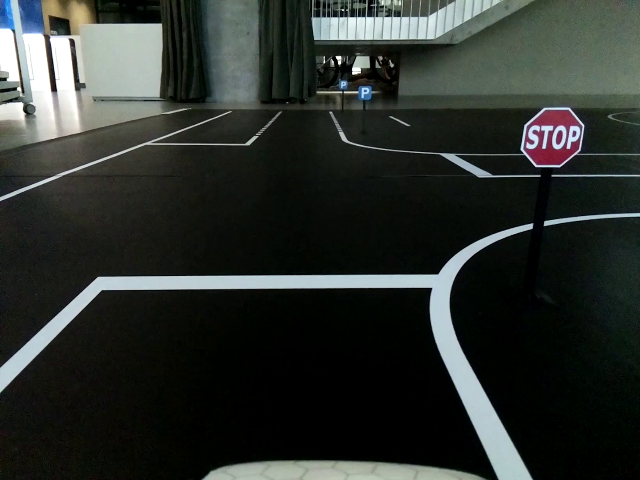stop: (520, 104, 584, 169)
